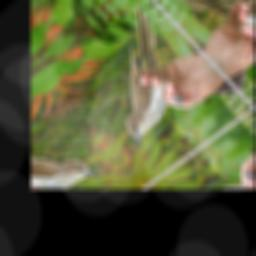Cuckoo: (59, 4, 220, 150)
